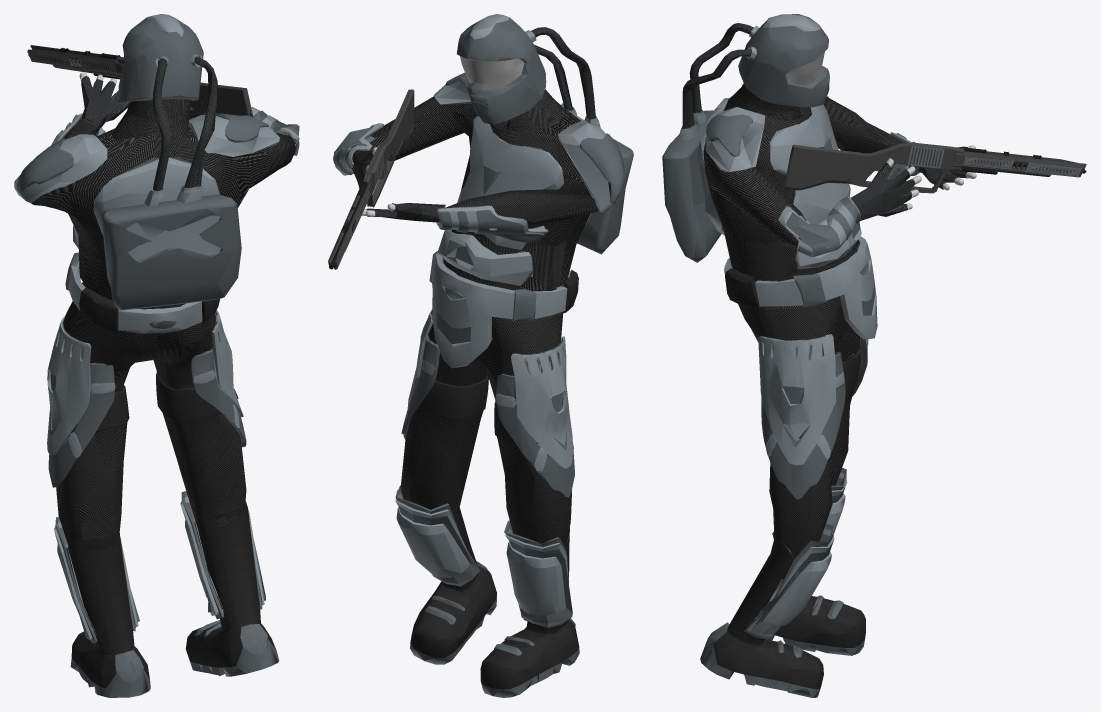
The model's file is AndarEscopeta.0024.obj.
3 renders of one model, left to right at view 1: azimuth 30°, elevation 25°; view 2: azimuth 150°, elevation 25°; view 3: azimuth 270°, elevation 25°, orthographic. The views are drawn at different scales.
Visible parts, largest first — view 1: personaje:extrudedSurface2 polySurface202, personaje:PANTALON polySurface202, personaje:bota1 polySurface202, personaje:CAMISETABUENA polySurface202, personaje:pPipe4 polySurface202, personaje:pCube4 polySurface202, personaje:cosoarmdaurapierna1 polySurface202, personaje:cinturon polySurface202, escopeta:Cylinder001 polySurface202, personaje:polySurface6 polySurface202, personaje:armadbota1 polySurface202, personaje:cosoarmadurapierna2 polySurface202 (+4 smaller); view 2: personaje:PANTALON polySurface202, personaje:CAMISETABUENA polySurface202, personaje:pPipe4 polySurface202, personaje:bota1 polySurface202, personaje:extrudedSurface2 polySurface202, personaje:cinturon polySurface202, personaje:armadbota1 polySurface202, personaje:pCube4 polySurface202, personaje:cosoarmdaurapierna1 polySurface202, escopeta:Cylinder001 polySurface202, personaje:polySurface6 polySurface202, personaje:polySurface2 polySurface202 (+6 smaller); view 3: personaje:CAMISETABUENA polySurface202, personaje:extrudedSurface2 polySurface202, personaje:pPipe4 polySurface202, personaje:bota1 polySurface202, personaje:pCube4 polySurface202, personaje:PANTALON polySurface202, escopeta:Cylinder001 polySurface202, personaje:cinturon polySurface202, personaje:cosoarmadurapierna2 polySurface202, personaje:armadbota1 polySurface202, personaje:hombro1 polySurface202, personaje:partearmdBRAZO2 polySurface202 (+2 smaller).
Boxes of the visible parts, x1,y1,x2,y2 form: personaje:extrudedSurface2 polySurface202: (101,14,241,310); personaje:PANTALON polySurface202: (56,282,246,546); personaje:bota1 polySurface202: (68,502,279,697); personaje:CAMISETABUENA polySurface202: (27,99,295,333); personaje:pPipe4 polySurface202: (14,76,299,248); personaje:pCube4 polySurface202: (48,310,265,643); personaje:cosoarmdaurapierna1 polySurface202: (47,315,115,458); personaje:cinturon polySurface202: (65,252,219,333); escopeta:Cylinder001 polySurface202: (27,45,253,117); personaje:polySurface6 polySurface202: (96,372,221,431); personaje:armadbota1 polySurface202: (54,496,264,640); personaje:cosoarmadurapierna2 polySurface202: (191,348,246,447); personaje:PANTALON polySurface202: (400,274,571,547); personaje:CAMISETABUENA polySurface202: (349,59,619,321); personaje:pPipe4 polySurface202: (334,80,615,285); personaje:bota1 polySurface202: (410,504,579,697); personaje:extrudedSurface2 polySurface202: (456,14,633,254); personaje:cinturon polySurface202: (429,251,578,368); personaje:armadbota1 polySurface202: (395,490,569,626); personaje:pCube4 polySurface202: (395,309,574,628); personaje:cosoarmdaurapierna1 polySurface202: (495,336,573,472); escopeta:Cylinder001 polySurface202: (328,89,414,269); personaje:polySurface6 polySurface202: (419,375,516,445); personaje:polySurface2 polySurface202: (438,210,544,242); personaje:CAMISETABUENA polySurface202: (703,83,905,309); personaje:extrudedSurface2 polySurface202: (662,14,829,262); personaje:pPipe4 polySurface202: (697,96,967,269); personaje:bota1 polySurface202: (700,532,865,697); personaje:pCube4 polySurface202: (744,334,867,639); personaje:PANTALON polySurface202: (738,256,860,579); escopeta:Cylinder001 polySurface202: (784,142,1086,193); personaje:cinturon polySurface202: (724,236,877,339); personaje:cosoarmadurapierna2 polySurface202: (761,345,845,499); personaje:armadbota1 polySurface202: (747,472,847,637); personaje:hombro1 polySurface202: (706,114,752,157); personaje:partearmdBRAZO2 polySurface202: (778,196,860,257).
Size of the model in its own units: 4.26 by 9.7 by 5.71.
